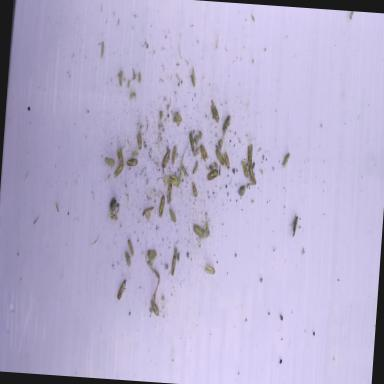pbw: (288, 212, 298, 237), (116, 278, 127, 300), (208, 102, 219, 122), (149, 298, 160, 316), (186, 130, 195, 152), (162, 174, 178, 186), (198, 142, 208, 161), (161, 148, 170, 168), (214, 147, 224, 165), (122, 249, 132, 266), (114, 146, 124, 163), (112, 162, 124, 176), (125, 238, 134, 256), (248, 164, 256, 184), (222, 112, 230, 132), (146, 250, 156, 266), (246, 142, 252, 168), (206, 167, 218, 180), (192, 223, 203, 237), (222, 150, 230, 169), (165, 182, 172, 203), (141, 204, 153, 216), (158, 194, 164, 217), (241, 160, 249, 177), (170, 253, 176, 275), (136, 128, 142, 150), (168, 206, 176, 222), (104, 155, 115, 166), (202, 264, 214, 274), (190, 66, 196, 86), (191, 180, 198, 196), (282, 151, 289, 167), (171, 144, 176, 163), (126, 157, 137, 165), (192, 160, 198, 174), (100, 40, 104, 58), (193, 146, 200, 156), (108, 212, 117, 219)
